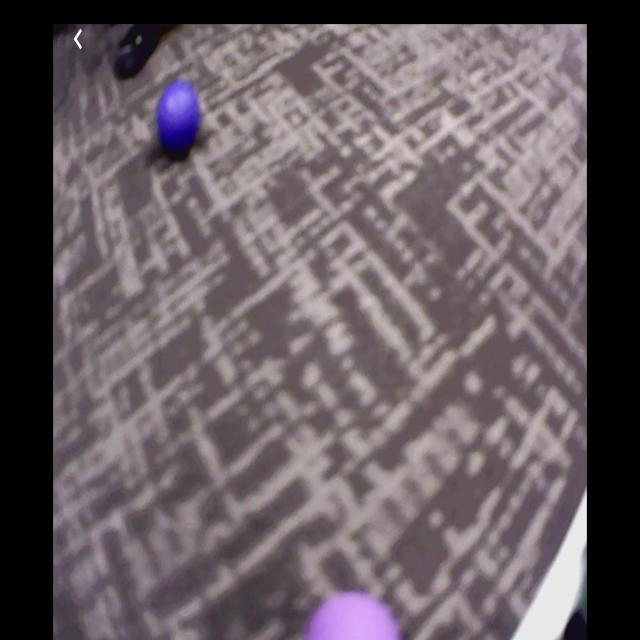ball: (306, 590, 398, 640), (157, 83, 200, 154)
